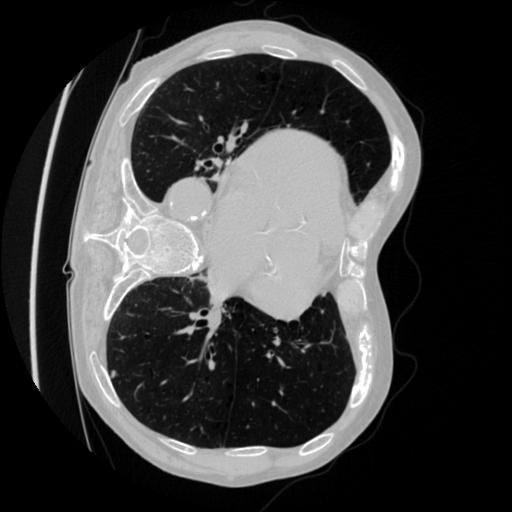nodule: (109, 370, 120, 381)
